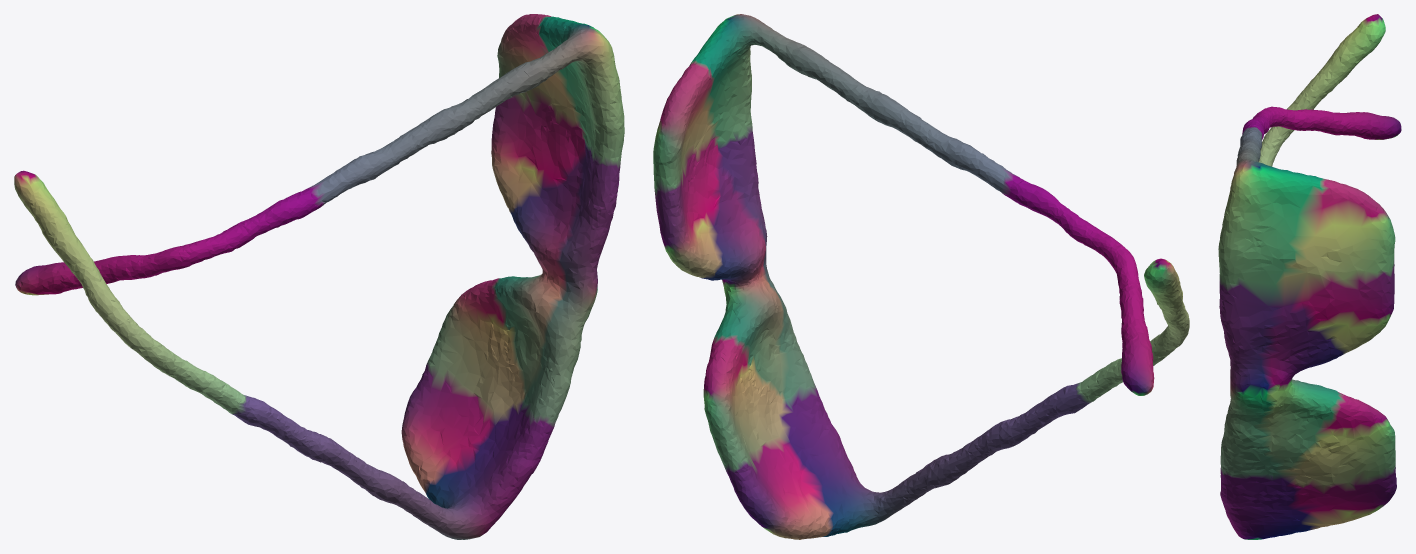
File: glasses-10.off.obj
3 views of the same model, side by side, from view 1: azimuth 30°, elevation 25°; view 2: azimuth 150°, elevation 25°; view 3: azimuth 270°, elevation 25° (orthographic). The views are drawn at different scales.
Size of the model in its own units: 1.16 by 1 by 0.3894.
